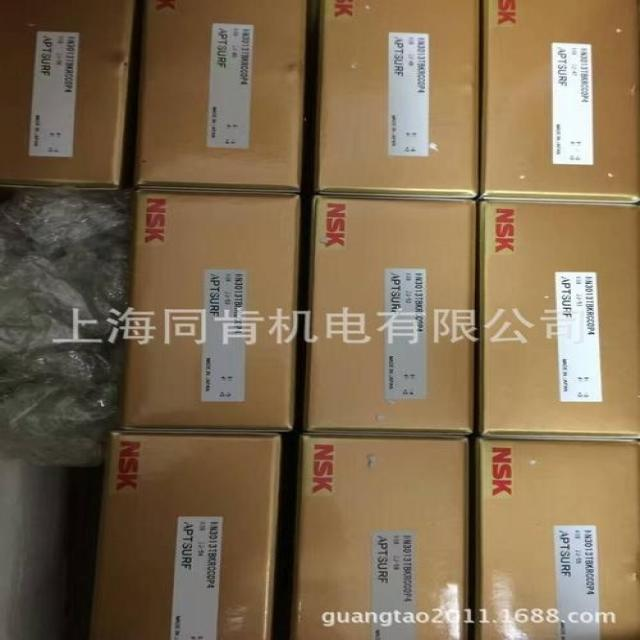box: (120, 188, 301, 431), (302, 193, 479, 437), (88, 430, 287, 640), (477, 201, 640, 440), (292, 433, 470, 640), (475, 437, 640, 640), (314, 0, 481, 200), (136, 0, 308, 193), (484, 0, 640, 202), (0, 0, 136, 191)
